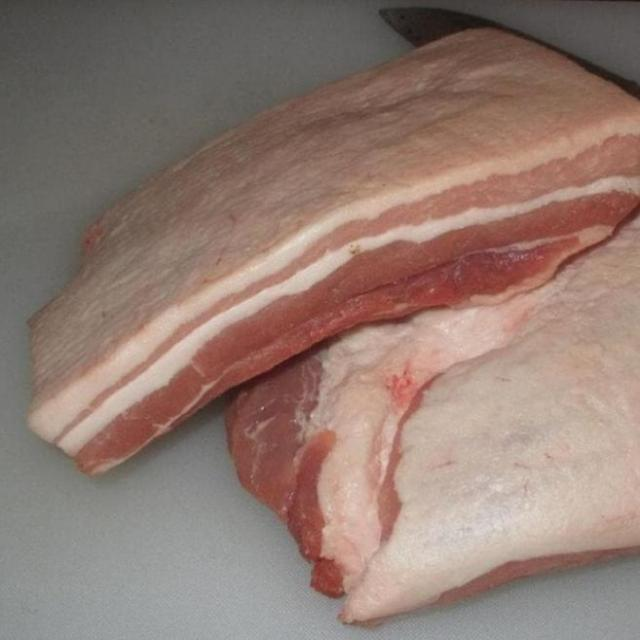pork: (24, 14, 640, 481)
